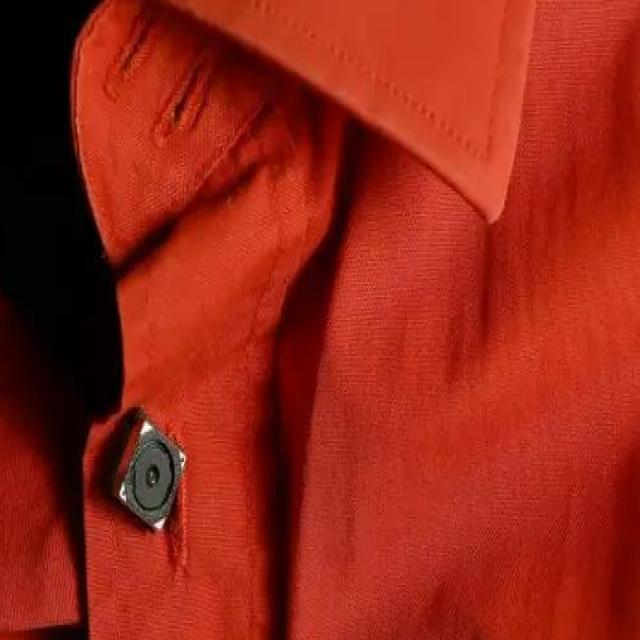hidden camera: (132, 441, 178, 516)
